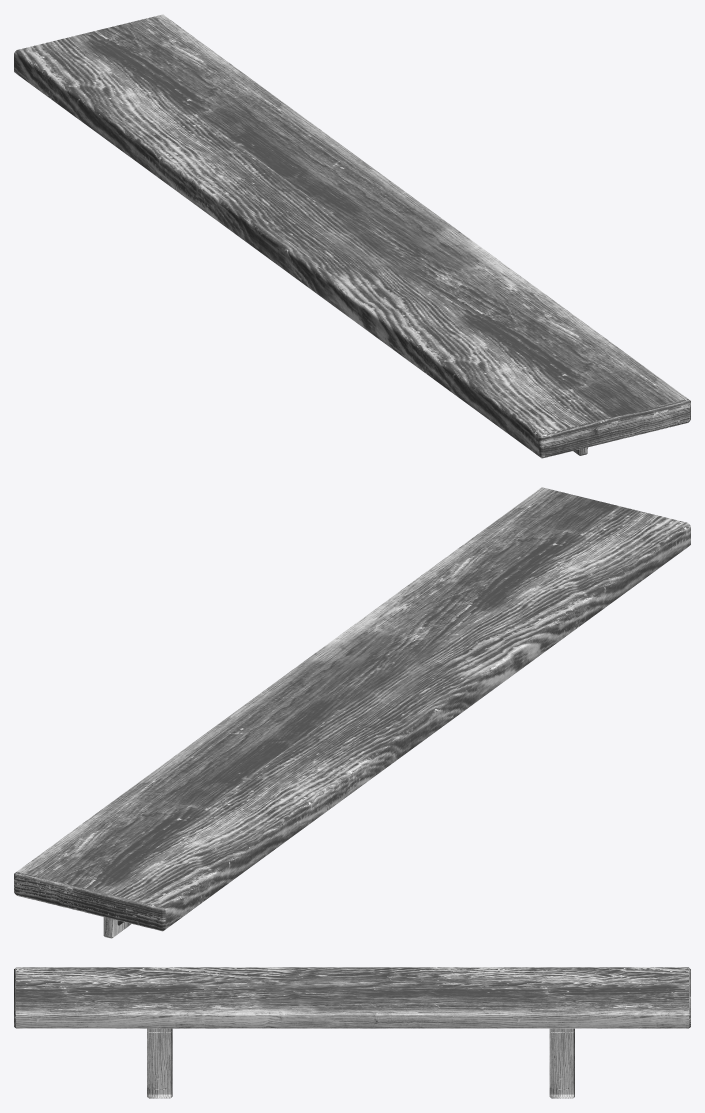
Rendered from SM_WallShelf_A1.fbx.
3 renders of one model, top to bottom at view 1: azimuth 30°, elevation 25°; view 2: azimuth 150°, elevation 25°; view 3: azimuth 270°, elevation 25°, orthographic. The views are drawn at different scales.
Parts seen in each view (by area): view 1: SM_WallShelf_A1; view 2: SM_WallShelf_A1; view 3: SM_WallShelf_A1.
Part boxes in pixels (x1,y1,x2,y2): SM_WallShelf_A1: [14, 14, 690, 458]; SM_WallShelf_A1: [14, 487, 690, 938]; SM_WallShelf_A1: [14, 967, 690, 1098].
Size of the model in its own units: 18.93 by 114 by 15.75.
Materials: 1 (1 with a texture image).
